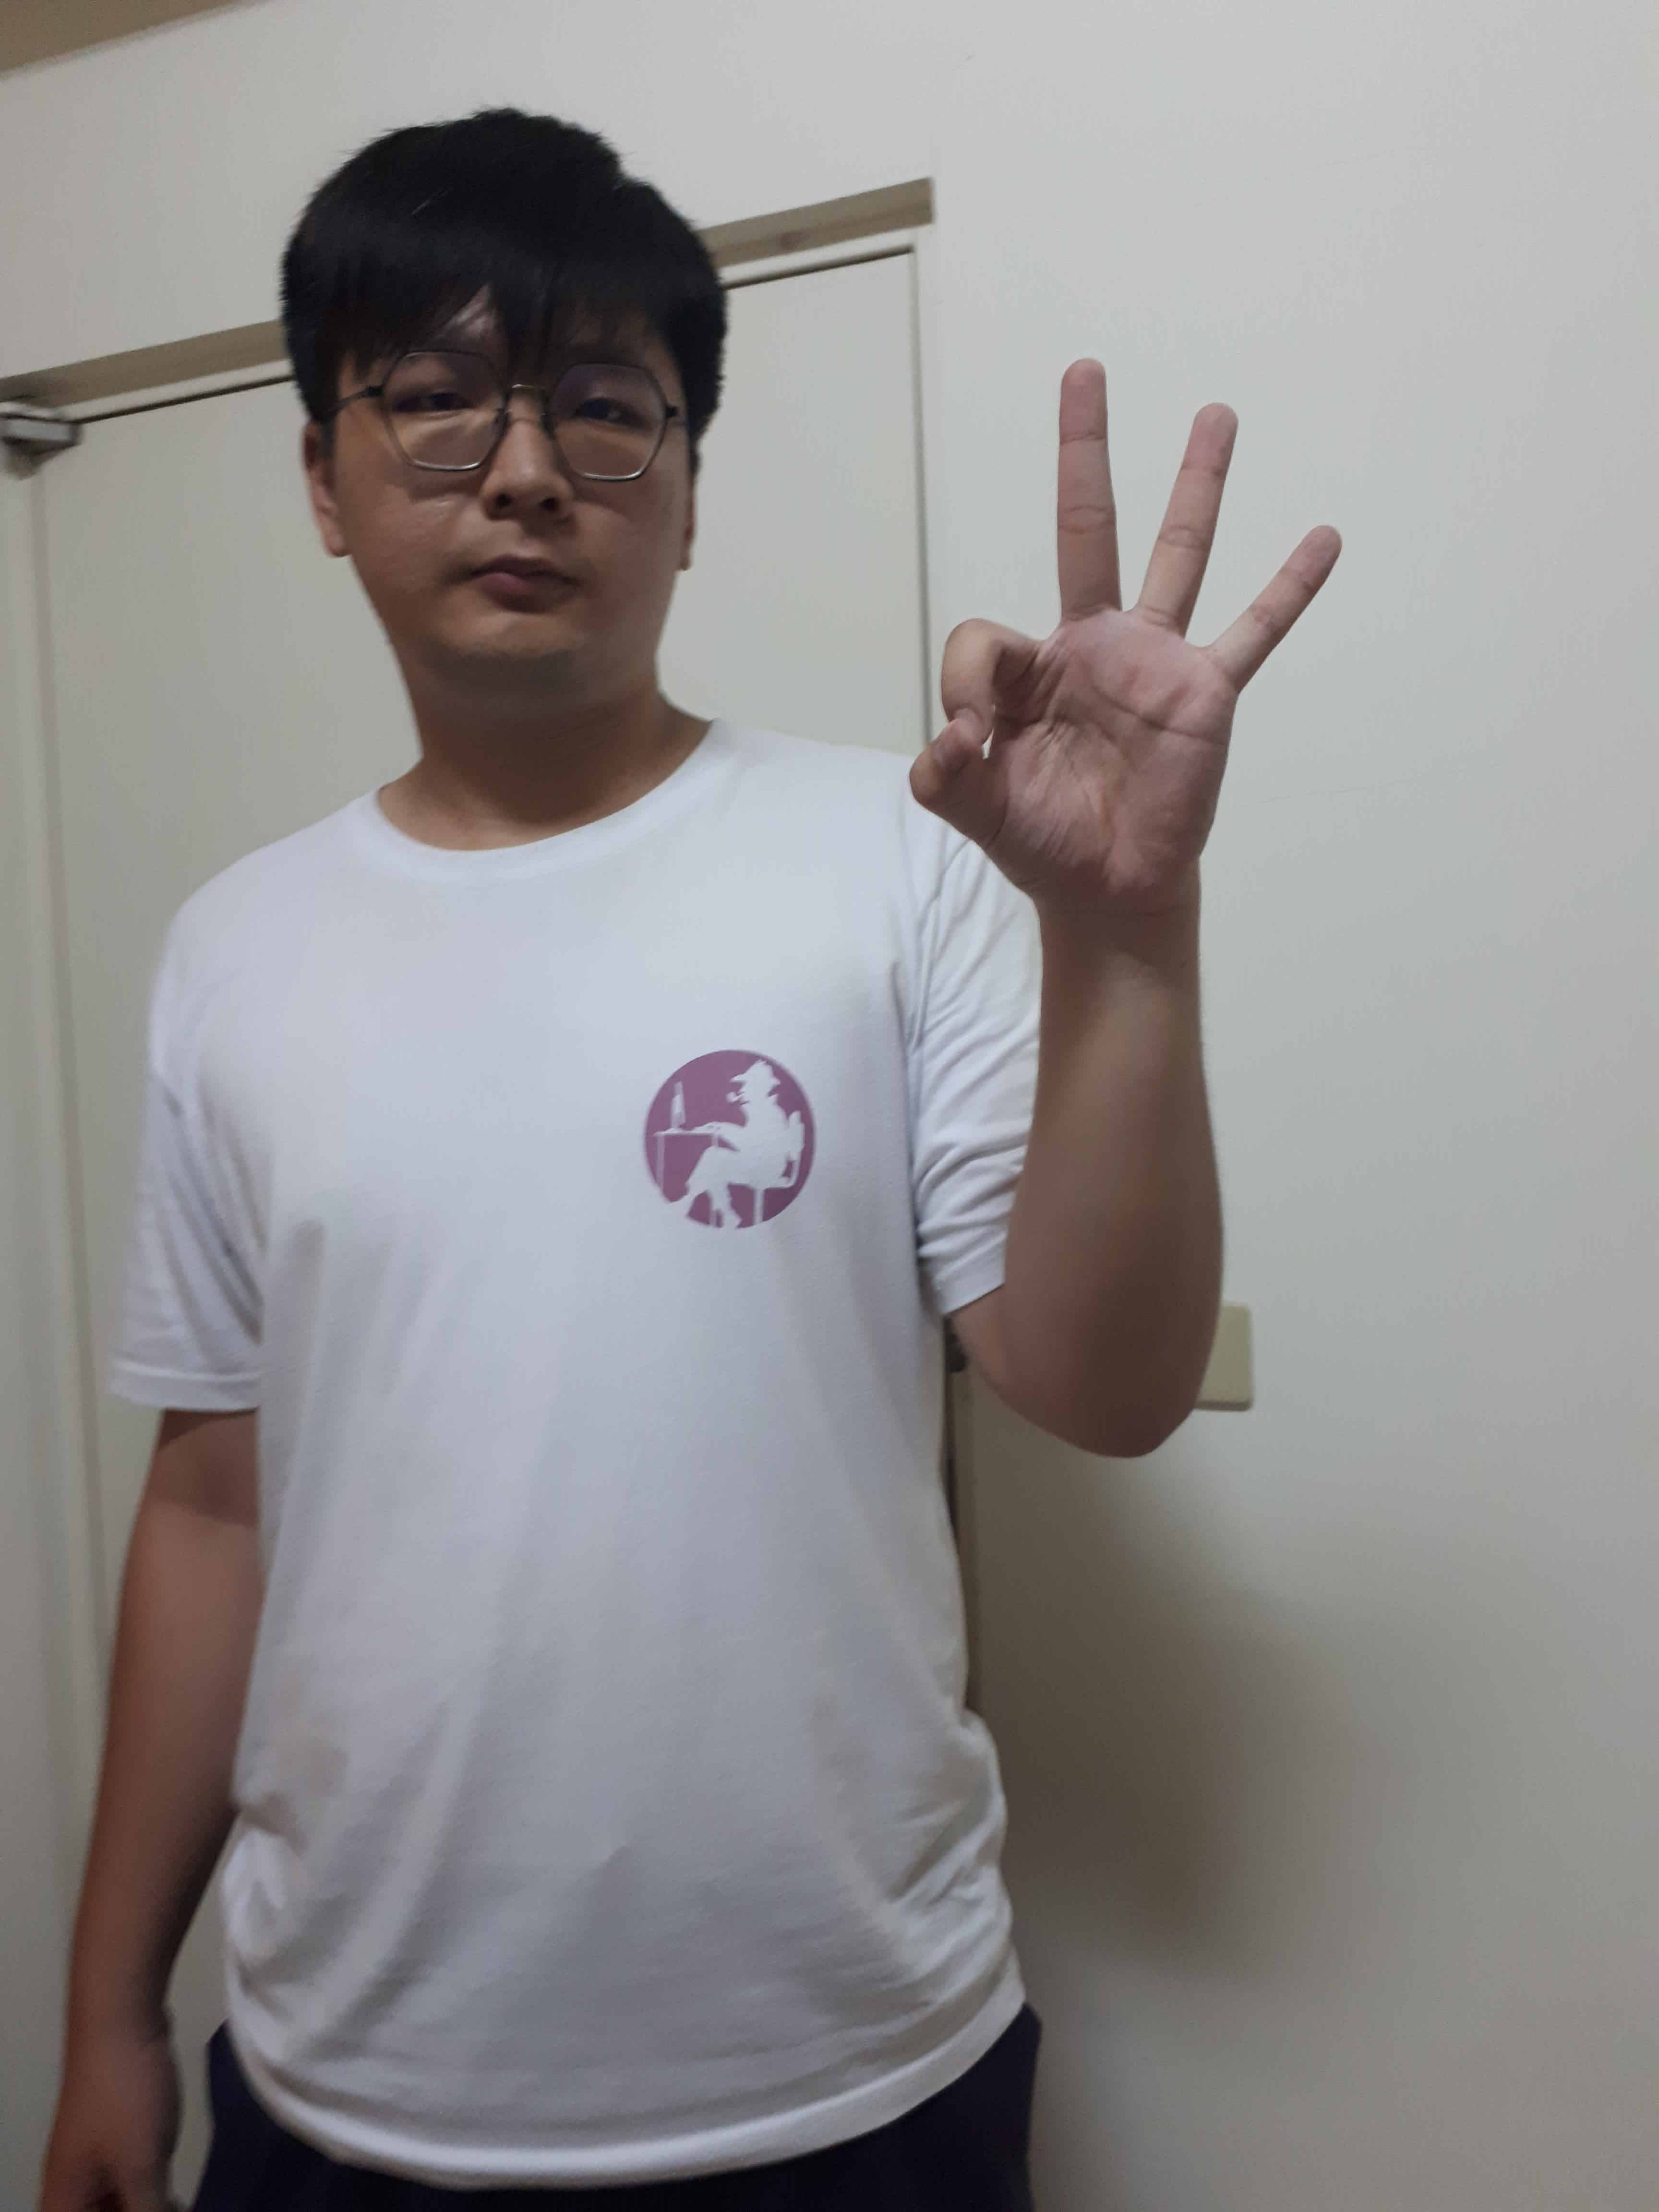ok: (889, 355, 1364, 942)
